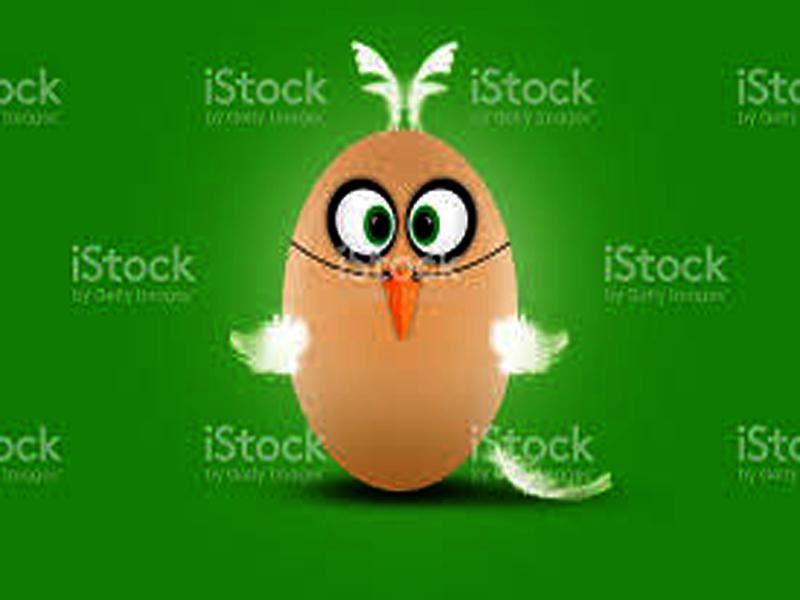Eggs: (285, 128, 518, 495)
